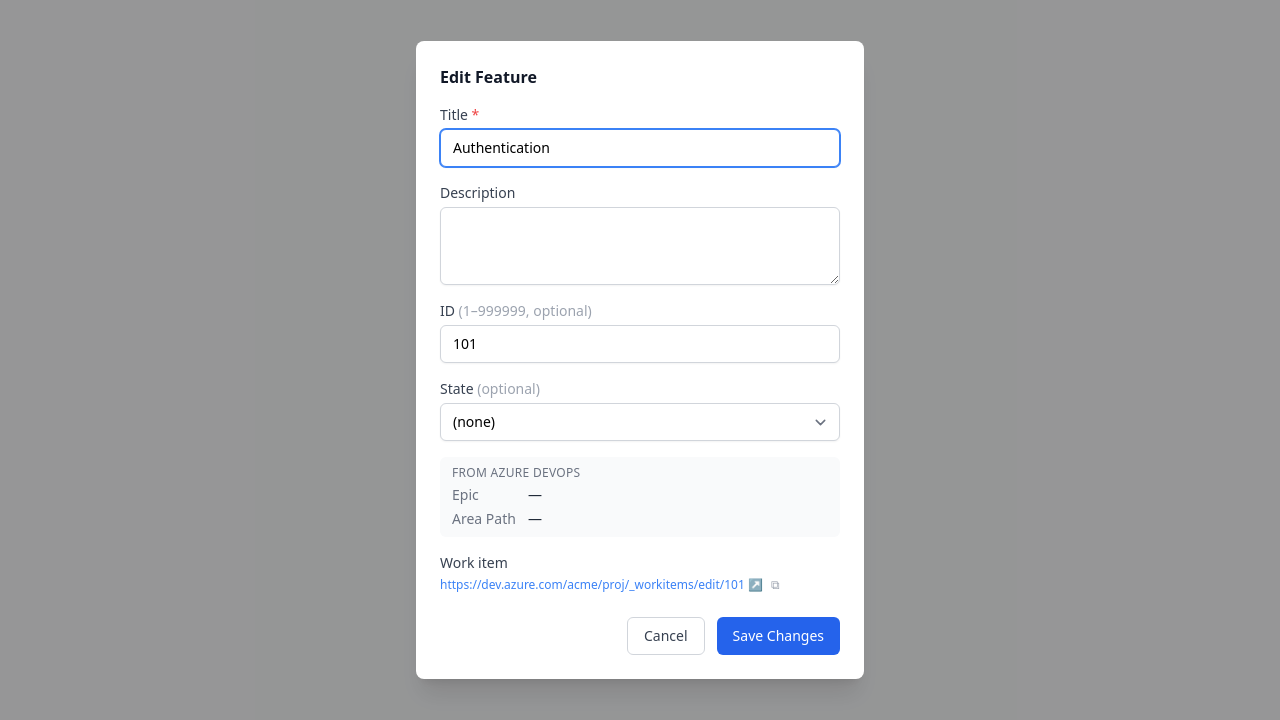
it: FeatureFormModal › shows a duplicate-ID error on a 409 and stays open
Click the button "Save Changes". click: (778, 636)
box: x1=717 y1=617 x2=840 y2=655
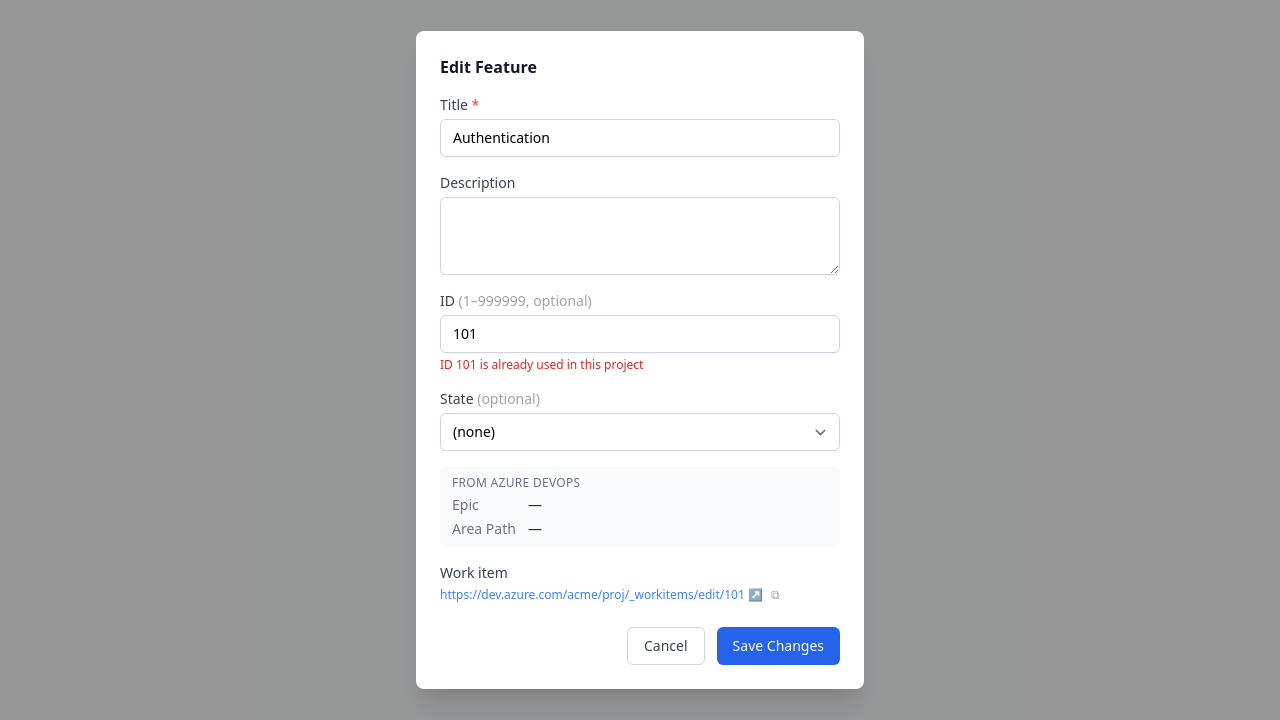
Expected: the text "ID 101 is already used in this project" is shown, x1=440 y1=356 x2=643 y2=373
